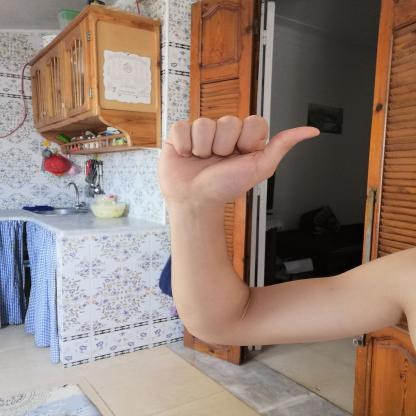DAD: (149, 107, 330, 216)
